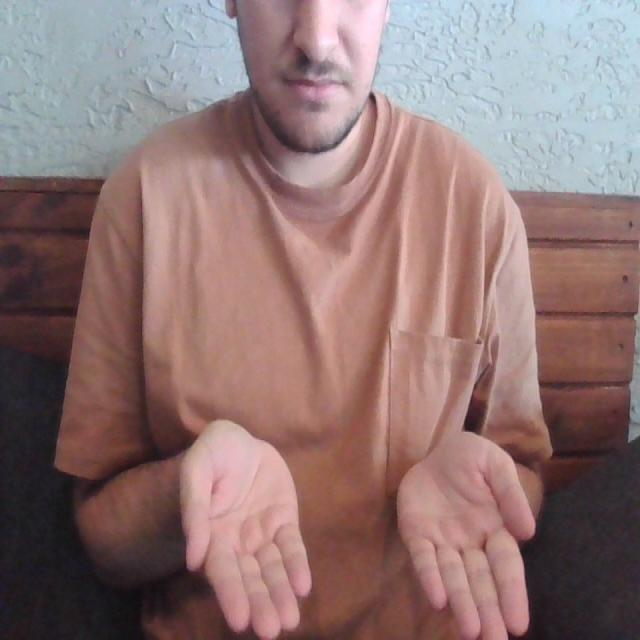Evet: (177, 414, 540, 640)
